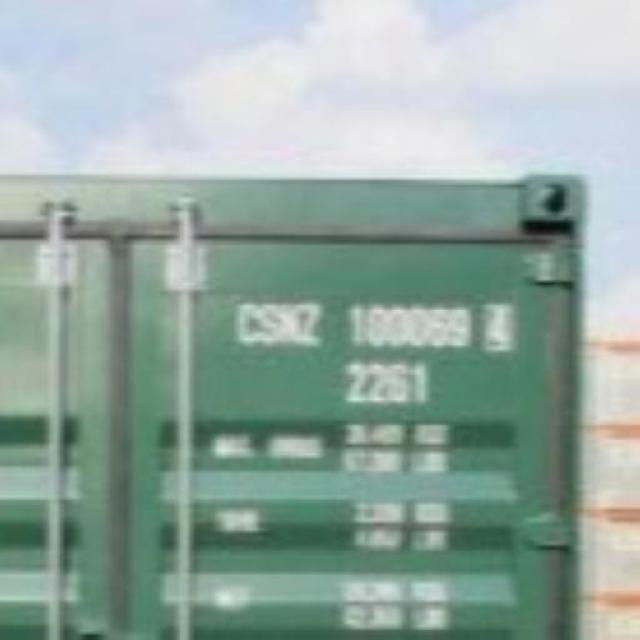ISO: (346, 365, 432, 405)
container_number: (235, 296, 523, 358)
